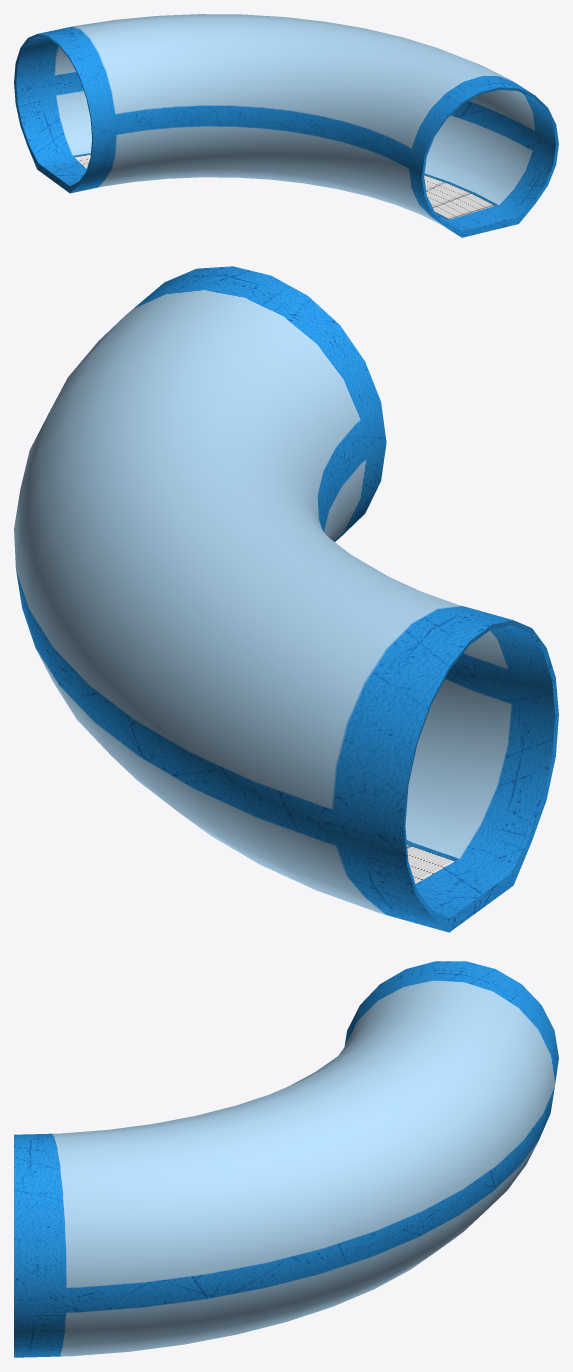
File: FUT0110021.fbx
3 views of the same model, one above another, from view 1: azimuth 30°, elevation 25°; view 2: azimuth 150°, elevation 25°; view 3: azimuth 270°, elevation 25° (orthographic). The views are drawn at different scales.
Visible parts, largest first — view 1: smFUT0110021; view 2: smFUT0110021; view 3: smFUT0110021.
Part boxes in pixels (x1,y1,x2,y2): smFUT0110021: (14, 14, 558, 237); smFUT0110021: (14, 266, 558, 932); smFUT0110021: (14, 961, 558, 1357).
Bounding box in the file's own units: 540 × 211 × 540.
1 material, 1 textured.
